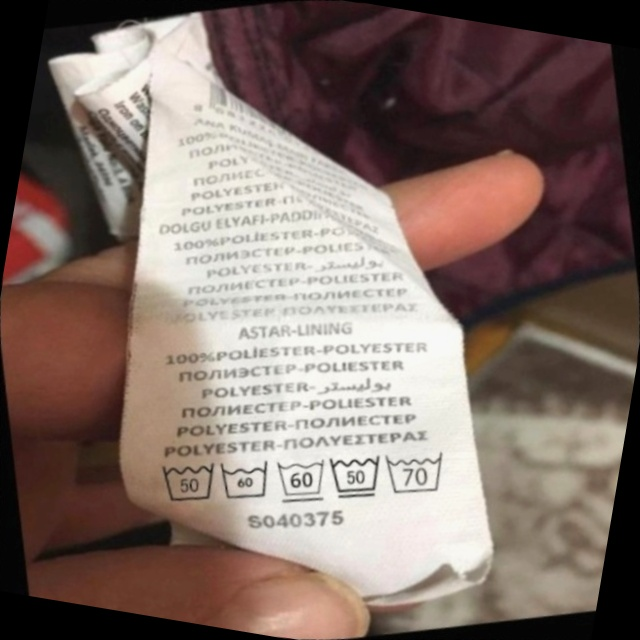50C: (145, 441, 232, 521), (317, 438, 397, 514)
60C: (265, 442, 342, 516), (208, 444, 285, 516)
70C: (375, 435, 462, 510)
